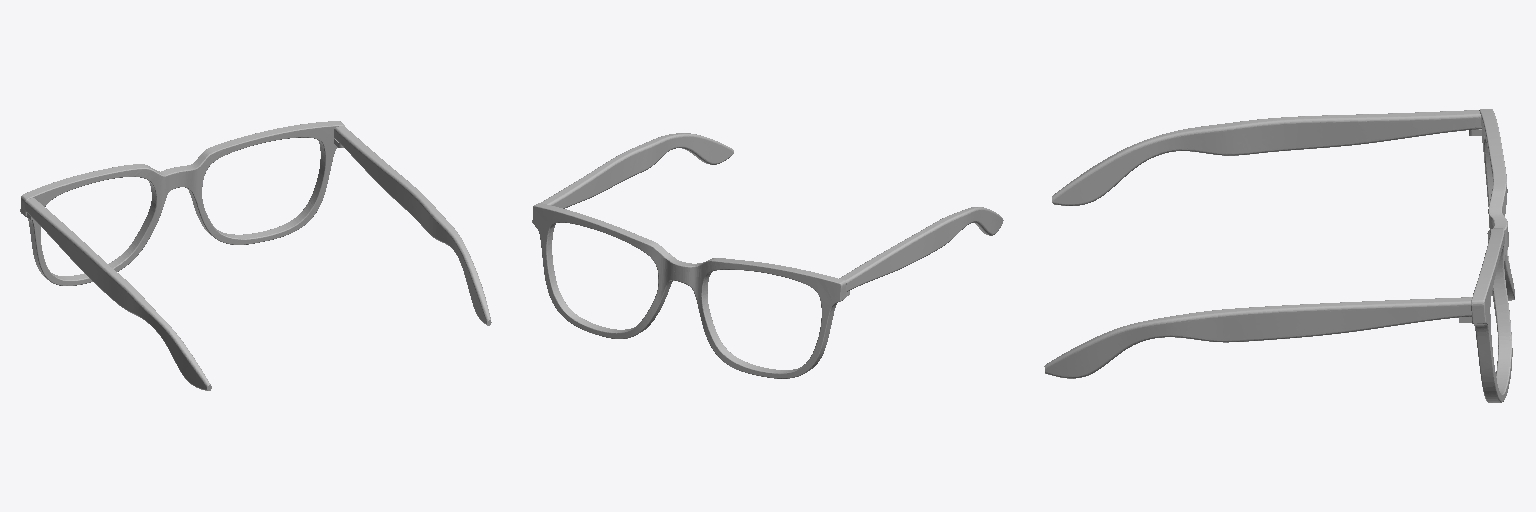
robot.urdf — root:
<robot name="root">
  <link name="link_001">
    <visual>
      <origin xyz="0 0 0" rpy="0 0 0"/>
      <geometry>
        <mesh filename="eyeglasses.obj" scale="0.800E+00 0.800E+00 0.8000E+00"/>
      </geometry>
      <material name="">
        <color rgba="7.50E-01 7.50E-01 7.50E-01 1"/>
      </material>
    </visual>
    <collision>
      <origin xyz="0 0 0" rpy="0 0 0"/>
      <geometry>
        <mesh filename="eyeglasses.obj" scale="0.8000E+00 0.8000E+00 0.8000E+00"/>
      </geometry>
    </collision>
    <inertial>
      <mass value="0.16"/> <!-- 质量：0.1kg -->
    </inertial>
  </link>
</robot>

--- What the picture shows (computed from the rendered views, not written in the file) ---
3 views of the same robot in one strip: view 1: azimuth 30°, elevation 25°; view 2: azimuth 150°, elevation 25°; view 3: azimuth 270°, elevation 25° (orthographic).
Model root with 1 links and 0 joints (none), rooted at link_001, posed all joints at 0.
Links seen in each view (by area): view 1: link_001; view 2: link_001; view 3: link_001.
Boxes of the visible links, <box> form: link_001: <box>20,121,491,390</box>; link_001: <box>532,133,1003,378</box>; link_001: <box>1044,109,1514,402</box>.
Size in the robot's own frame: 0.1078 by 0.1096 by 0.0354 metres.
Meshes: 1 distinct files referenced, 1 mesh visuals loaded (1 OBJ).
